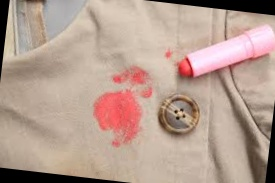lipstick: (86, 90, 147, 148), (118, 61, 158, 102), (106, 69, 146, 95), (165, 48, 174, 60)
